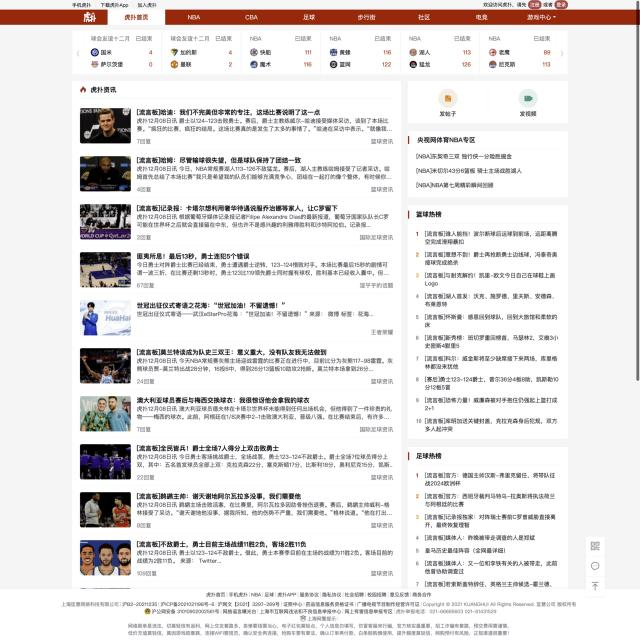QR code: (78, 106, 399, 576), (412, 226, 560, 435), (71, 30, 567, 75), (413, 467, 560, 587)
badge: (0, 589, 640, 640)
bag: (0, 0, 636, 26)
breadcrumbs: (407, 133, 478, 146), (406, 206, 444, 221), (406, 449, 444, 463), (88, 83, 122, 96)
decoration: (72, 9, 566, 25), (70, 0, 165, 9)
